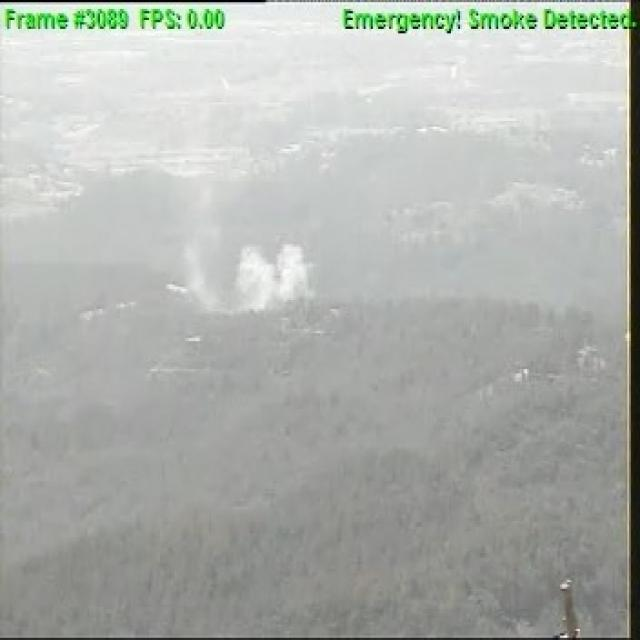smoke: (186, 229, 315, 312)
